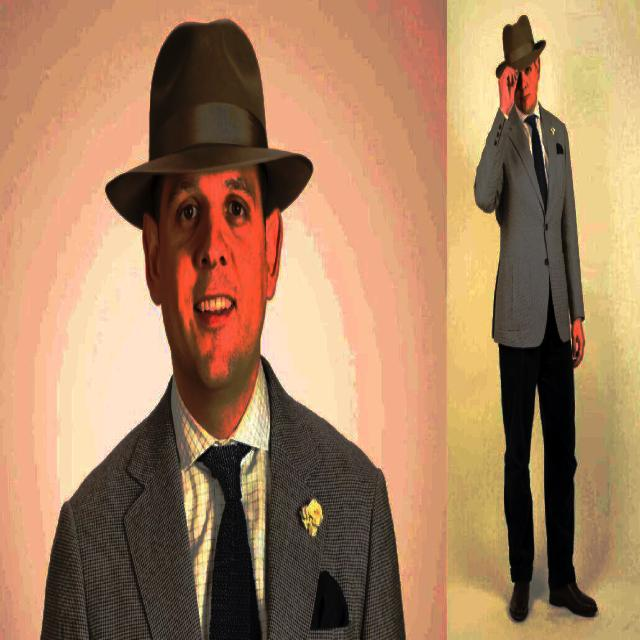TOPI: (102, 18, 315, 242), (490, 13, 550, 80)
